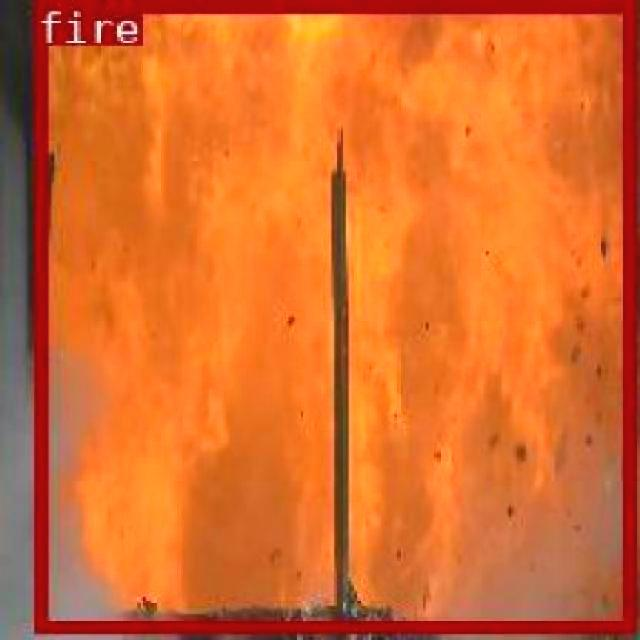fire: (31, 0, 634, 629)
